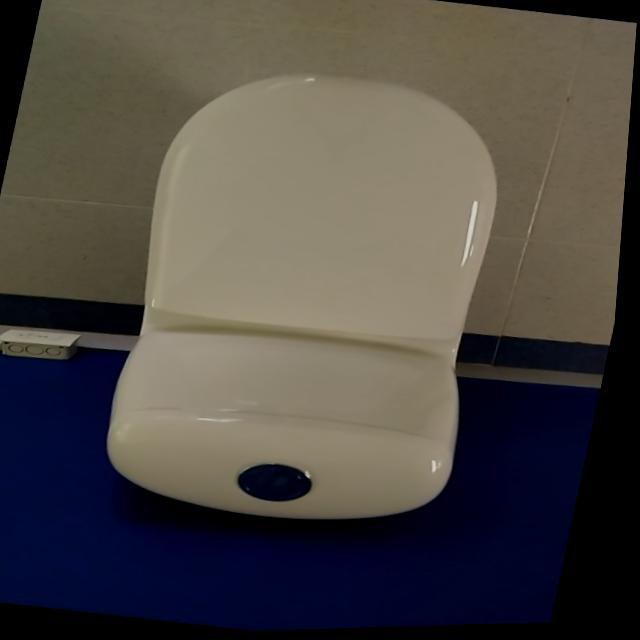toilet: (93, 50, 538, 549)
